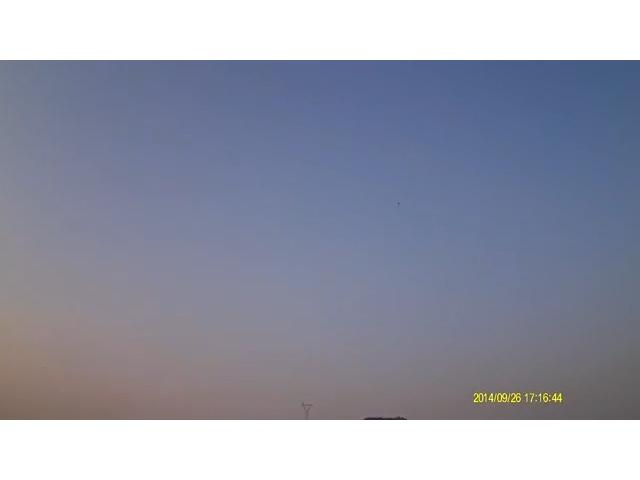Anti-Drone: (385, 191, 411, 217)
